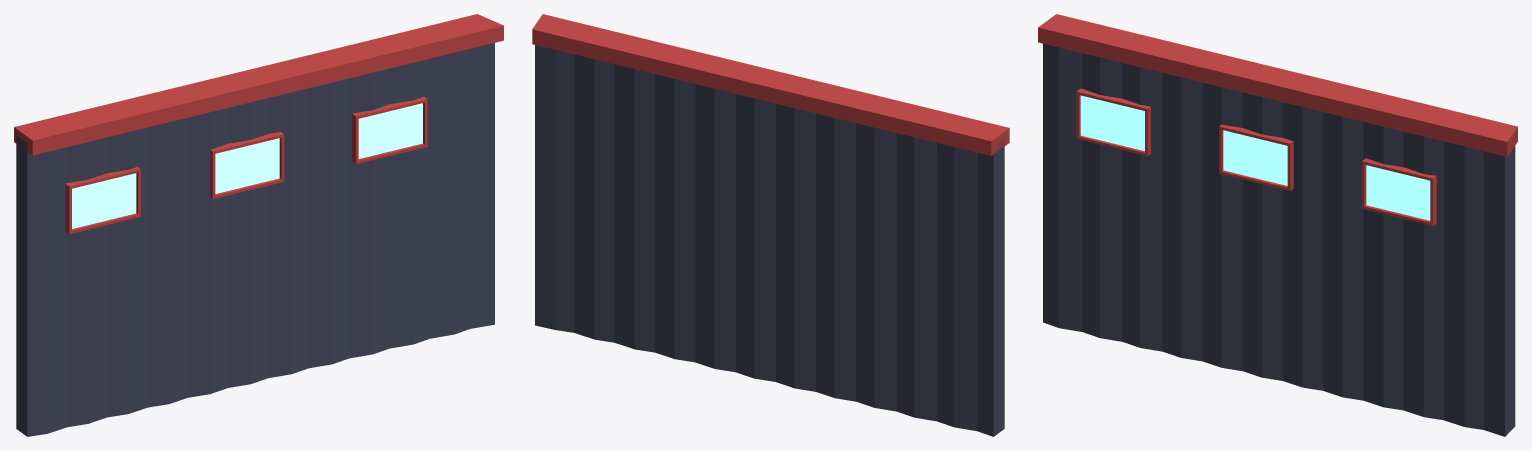
The model's file is warehouseL_flipped.fbx.
3 views of the same model, side by side, from view 1: azimuth 30°, elevation 25°; view 2: azimuth 150°, elevation 25°; view 3: azimuth 330°, elevation 25° (orthographic).
Parts seen in each view (by area): view 1: WarehouseAntiBigWall; view 2: WarehouseAntiBigWall; view 3: WarehouseAntiBigWall.
Boxes of the visible parts, x1,y1,x2,y2 form: WarehouseAntiBigWall: (14, 14, 503, 436); WarehouseAntiBigWall: (532, 14, 1009, 436); WarehouseAntiBigWall: (1038, 14, 1517, 436).
Bounding box in the file's own units: 329 × 200 × 22.36.
